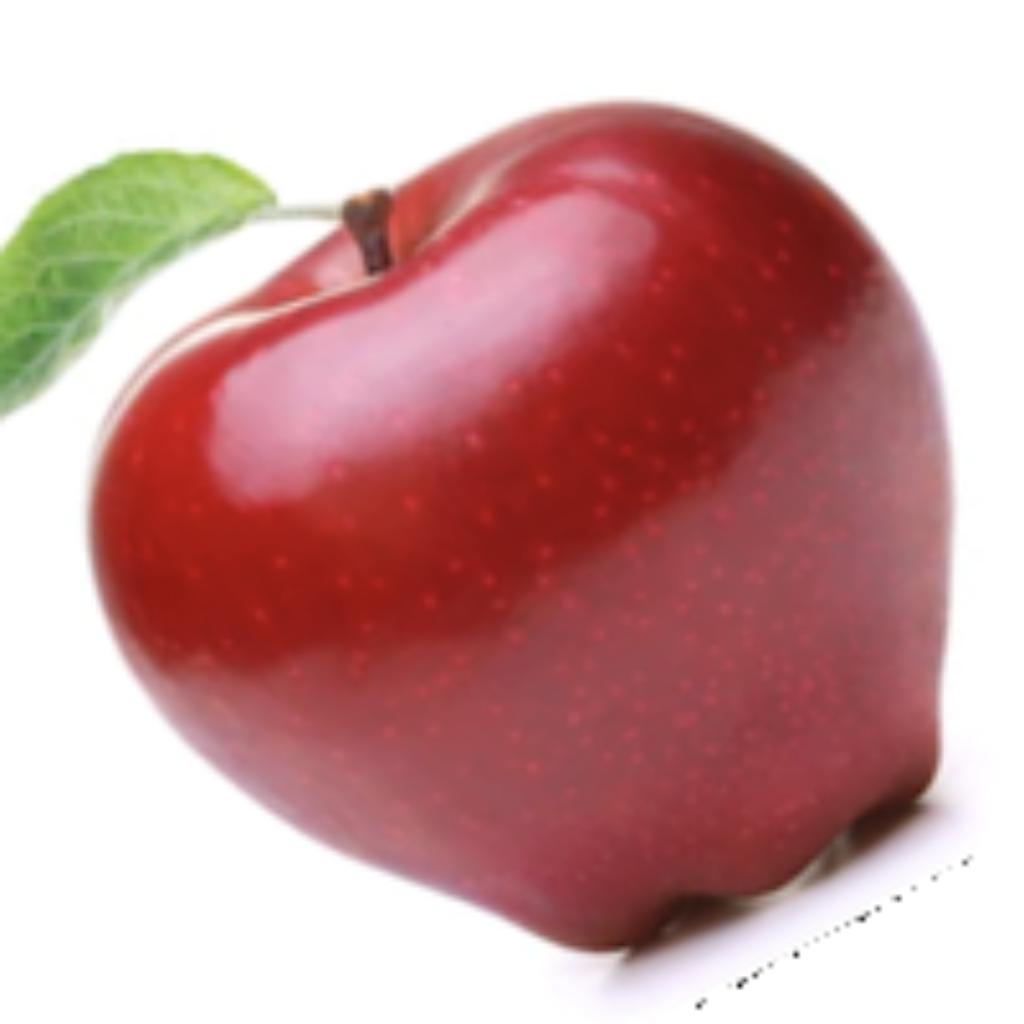apple: (72, 92, 983, 1014)
